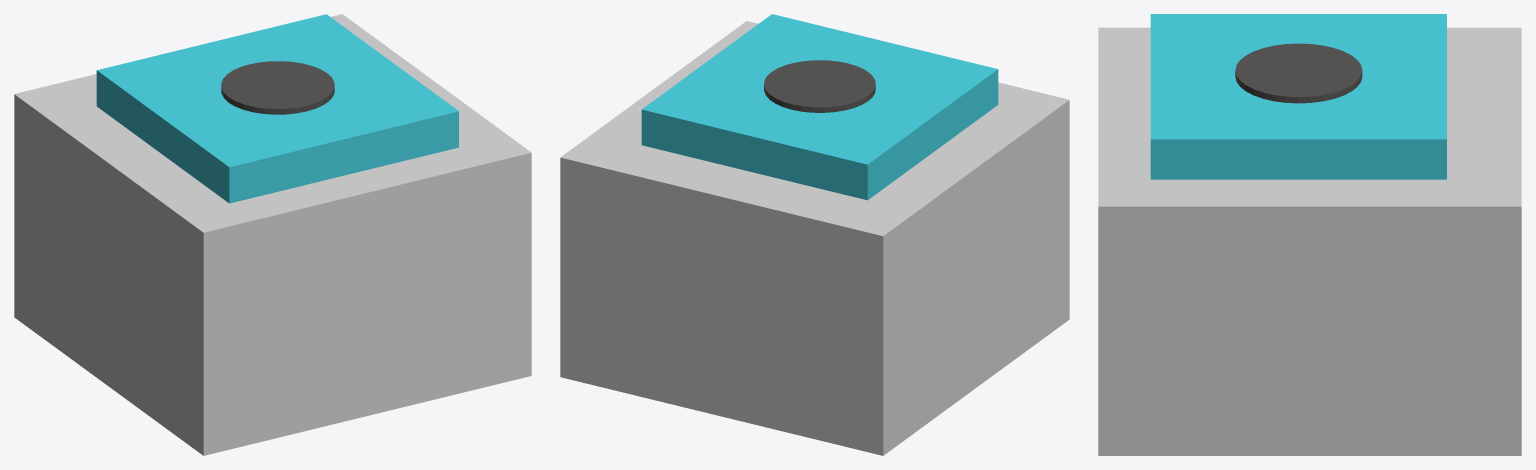
3 views of the same model, side by side, from view 1: azimuth 30°, elevation 25°; view 2: azimuth 150°, elevation 25°; view 3: azimuth 270°, elevation 25° (orthographic). The views are drawn at different scales.
Visible parts, largest first — view 1: Cube.002, Cube.001, Cylinder; view 2: Cube.002, Cube.001, Cylinder; view 3: Cube.002, Cube.001, Cylinder.
Boxes of the visible parts, x1,y1,x2,y2 form: Cube.002: (14, 14, 531, 455); Cube.001: (96, 14, 458, 203); Cylinder: (221, 61, 334, 114); Cube.002: (560, 21, 1069, 455); Cube.001: (641, 14, 998, 200); Cylinder: (764, 60, 875, 112); Cube.002: (1098, 27, 1521, 455); Cube.001: (1150, 14, 1446, 179); Cylinder: (1235, 43, 1362, 103).
Size of the model in its own units: 2 by 1.54 by 2.
